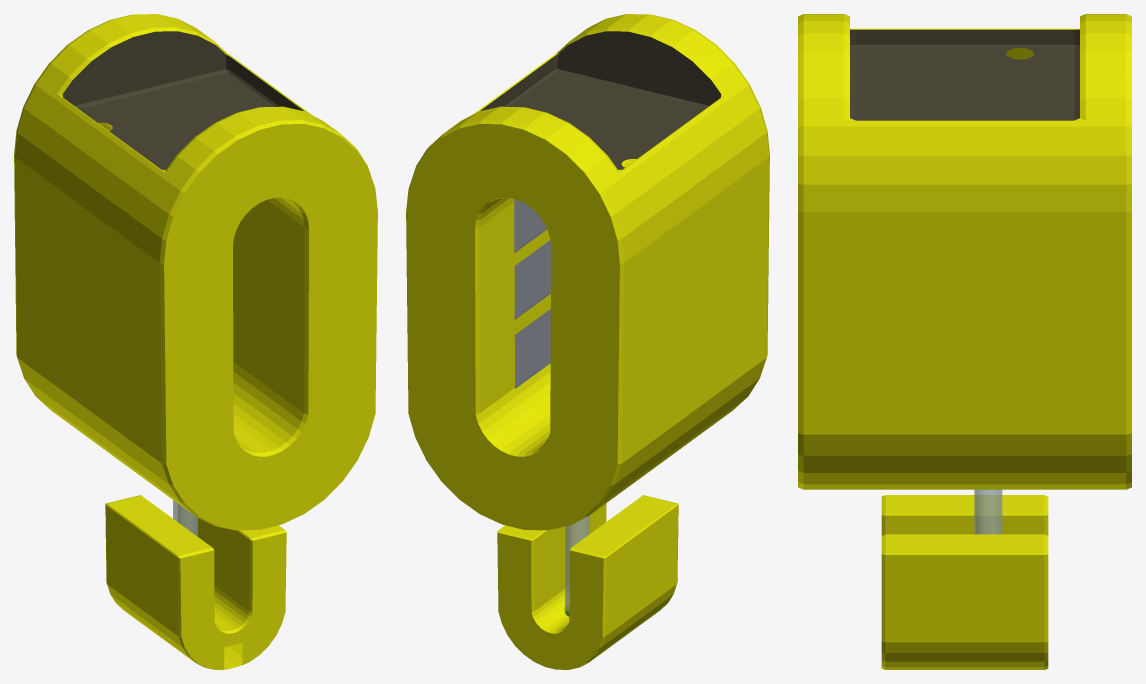
Rendered from obita_1.4.glb.
3 renders of one model, left to right at view 1: azimuth 30°, elevation 25°; view 2: azimuth 150°, elevation 25°; view 3: azimuth 270°, elevation 25°, orthographic. The views are drawn at different scales.
Parts seen in each view (by area): view 1: O, u, club; view 2: O, u, club, Cube.007, Cube.006, Cube.008, lift; view 3: O, u, club, lift.
Part boxes in pixels (x1,y1,x2,y2): O: (14, 14, 377, 530); u: (105, 495, 286, 669); club: (62, 31, 303, 169); O: (406, 14, 769, 530); u: (497, 495, 678, 669); club: (480, 31, 721, 169); Cube.007: (514, 240, 550, 319); Cube.006: (514, 309, 550, 388); Cube.008: (514, 199, 546, 252); lift: (565, 515, 589, 616); O: (798, 14, 1131, 489); u: (881, 495, 1048, 669); club: (850, 29, 1079, 120); lift: (974, 489, 1002, 534).
Size of what is drawn, in the model's own units: 33.63 by 84.45 by 40.15.
